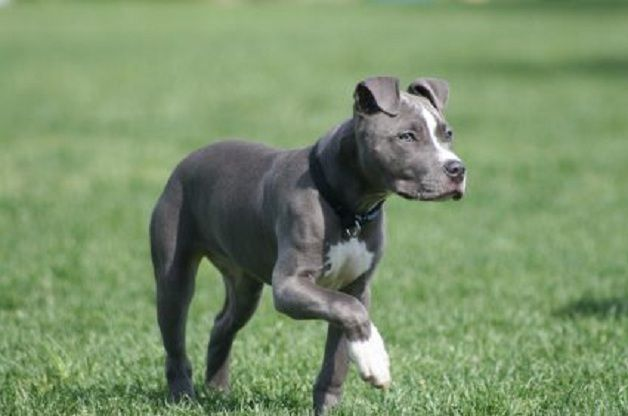am_pit_bull_terrier: (149, 76, 466, 416)
